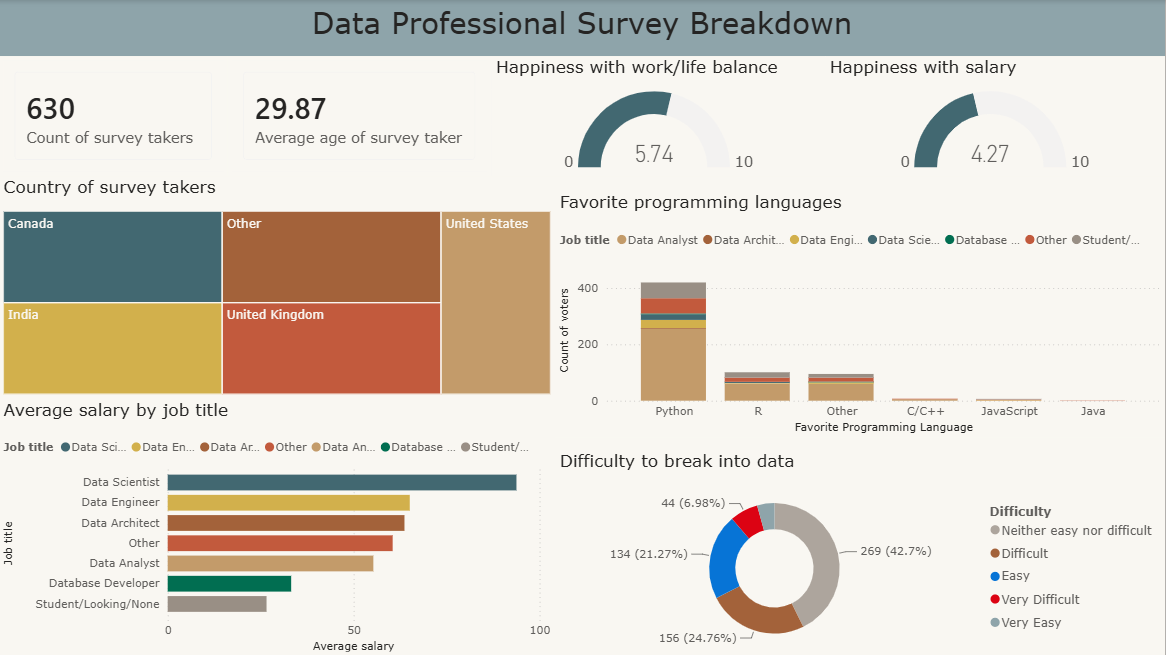

Layout of this report page (visuals, bound fields, positions):
{"tool":"powerbi","page":{"name":"Page 1","canvas":[1280,720],"ordinal":0},"visuals":[{"type":"textbox","box":[0,0,1280.3,81],"z":0},{"type":"cardVisual","fields":{"Data":["CountNonNull(Data Professional Survey.Unique ID)"]},"box":[0,80.8,251,131.9],"z":1000},{"type":"cardVisual","fields":{"Data":["Avg(Data Professional Survey.Q10 - Current Age)"]},"box":[251,80.8,289.2,131.9],"z":2000},{"type":"barChart","title":"Average salary by job title","fields":{"Category":["Data Professional Survey.Q1 - Which Title Best Fits your Current Role?.1"],"Y":["Avg(Data Professional Survey.Average salary)"],"Series":["Data Professional Survey.Q1 - Which Title Best Fits your Current Role?.1"]},"box":[0,456.5,611.1,263.7],"z":3000},{"type":"columnChart","title":"Favorite programming languages","fields":{"Category":["Data Professional Survey.Q5 - Favorite Programming Language.1"],"Y":["CountNonNull(Data Professional Survey.Unique ID)"],"Series":["Data Professional Survey.Q1 - Which Title Best Fits your Current Role?.1"]},"box":[611.1,243.9,669.2,212.7],"z":4000},{"type":"treemap","title":"Country of survey takers","fields":{"Group":["Data Professional Survey.Q11 - Which Country do you live in?.1"],"Values":["Count(Data Professional Survey.Q11 - Which Country do you live in?.1)"]},"box":[0,212.7,611.1,243.9],"z":4001},{"type":"gauge","title":"Happiness with work/life balance","fields":{"Y":["Avg(Data Professional Survey.Q6 - How Happy are you in your Current Position with the following? (Work/Life Balance))"],"MinValue":["Min(Data Professional Survey.Q6 - How Happy are you in your Current Position with the following? (Work/Life Balance))"],"MaxValue":["Max(Data Professional Survey.Q6 - How Happy are you in your Current Position with the following? (Work/Life Balance))1"]},"box":[540.2,80.8,367.2,131.9],"z":4002},{"type":"gauge","title":"Happiness with salary","fields":{"Y":["Avg(Data Professional Survey.Q6 - How Happy are you in your Current Position with the following? (Salary))"],"MinValue":["Min(Data Professional Survey.Q6 - How Happy are you in your Current Position with the following? (Salary))"],"MaxValue":["Max(Data Professional Survey.Q6 - How Happy are you in your Current Position with the following? (Salary))"]},"box":[907.4,80.8,372.9,131.9],"z":4003},{"type":"donutChart","title":"Difficulty to break into data","fields":{"Category":["Data Professional Survey.Q7 - How difficult was it for you to break into Data?"],"Y":["CountNonNull(Data Professional Survey.Q7 - How difficult was it for you to break into Data?)"]},"box":[611.1,456.5,669.2,263.7],"z":4004}]}

Visuals, with their boxes in screenshot pixels (x1, y1, x2, y2), scaled from the page's 1280x720 canvas onto the 1166x655 screenshot:
textbox: (x1=0, y1=0, x2=1165, y2=74)
cardVisual - CountNonNull(Data Professional Survey.Unique ID): (x1=0, y1=74, x2=229, y2=193)
cardVisual - Avg(Data Professional Survey.Q10 - Current Age): (x1=229, y1=74, x2=492, y2=193)
"Average salary by job title" barChart: (x1=0, y1=415, x2=557, y2=654)
"Favorite programming languages" columnChart: (x1=557, y1=222, x2=1165, y2=415)
"Country of survey takers" treemap: (x1=0, y1=193, x2=557, y2=415)
"Happiness with work/life balance" gauge: (x1=492, y1=74, x2=827, y2=193)
"Happiness with salary" gauge: (x1=827, y1=74, x2=1165, y2=193)
"Difficulty to break into data" donutChart: (x1=557, y1=415, x2=1165, y2=654)
